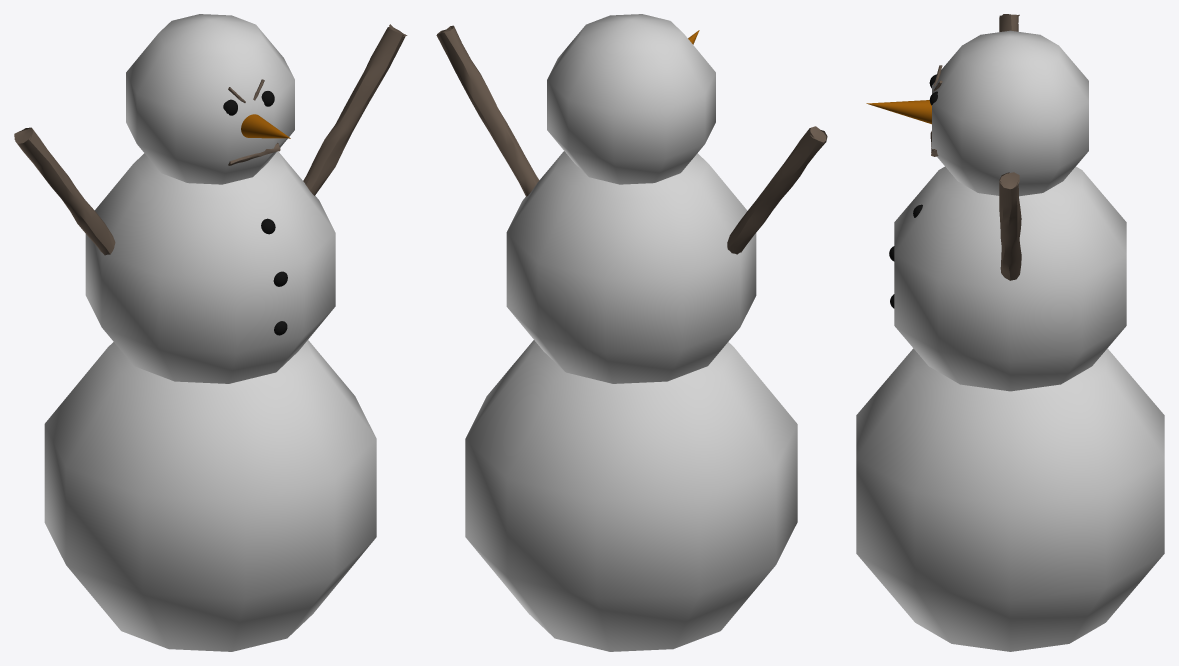
Rendered from snowman.fbx.
3 renders of one model, left to right at view 1: azimuth 30°, elevation 25°; view 2: azimuth 150°, elevation 25°; view 3: azimuth 270°, elevation 25°, orthographic. The views are drawn at different scales.
Parts seen in each view (by area): view 1: Sphere, Sphere_1, Sphere_2, Cylinder, Cylinder_1, Cone; view 2: Sphere, Sphere_1, Sphere_2, Cylinder, Cylinder_1; view 3: Sphere, Sphere_1, Sphere_2, Cylinder, Cone.
Part boxes in pixels (left/top/right/bottom): Sphere: left=44, top=340, right=376, bottom=651; Sphere_1: left=85, top=151, right=335, bottom=383; Sphere_2: left=126, top=14, right=294, bottom=184; Cylinder: left=303, top=24, right=407, bottom=195; Cylinder_1: left=14, top=127, right=115, bottom=255; Cone: left=241, top=114, right=290, bottom=138; Sphere: left=465, top=340, right=797, bottom=651; Sphere_1: left=506, top=151, right=756, bottom=383; Sphere_2: left=547, top=14, right=715, bottom=184; Cylinder: left=436, top=25, right=539, bottom=196; Cylinder_1: left=727, top=126, right=827, bottom=254; Sphere: left=856, top=348, right=1164, bottom=651; Sphere_1: left=894, top=166, right=1126, bottom=391; Sphere_2: left=932, top=30, right=1088, bottom=196; Cylinder: left=999, top=172, right=1021, bottom=280; Cone: left=866, top=100, right=931, bottom=124.
Bounding box in the file's own units: 304 × 463 × 215.
